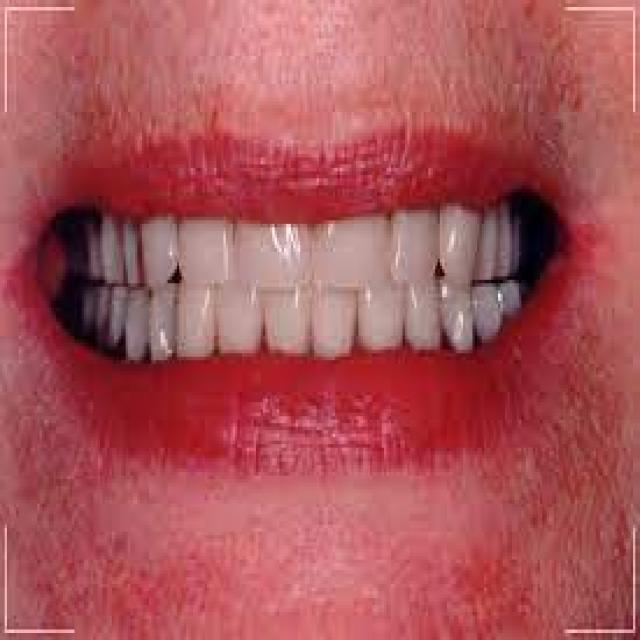tooth: (310, 217, 388, 294), (238, 227, 314, 287), (382, 210, 438, 283), (307, 287, 363, 350), (214, 290, 265, 357), (172, 284, 219, 354), (433, 210, 479, 280), (266, 290, 308, 357), (182, 224, 232, 280), (135, 227, 184, 280), (363, 294, 405, 349), (119, 290, 149, 364), (408, 290, 444, 350), (442, 287, 475, 350), (475, 283, 507, 343), (146, 287, 174, 353), (468, 213, 498, 273), (100, 217, 128, 280), (494, 224, 522, 280), (100, 283, 121, 343), (123, 231, 140, 276), (500, 287, 526, 315), (84, 228, 98, 270), (82, 301, 100, 325)
